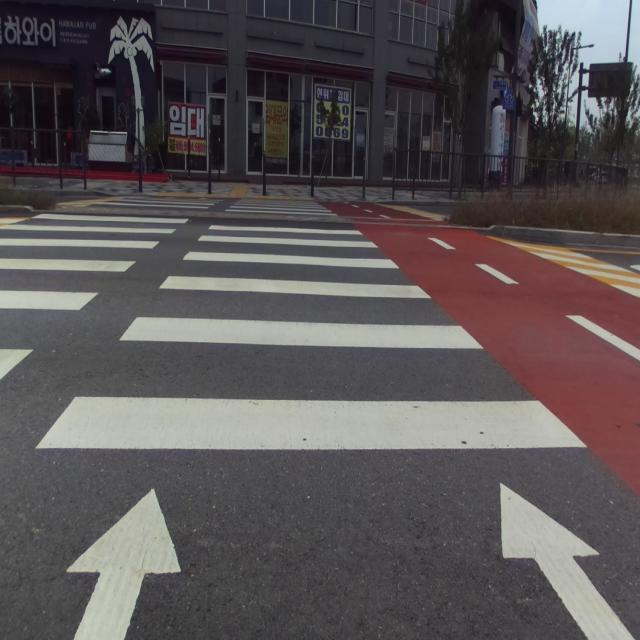횡단보도: (0, 195, 634, 639)
